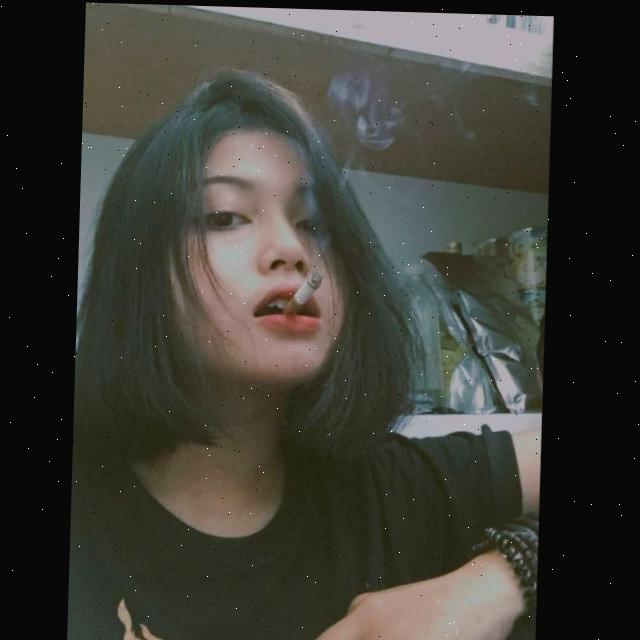cigarette: (285, 268, 325, 314)
